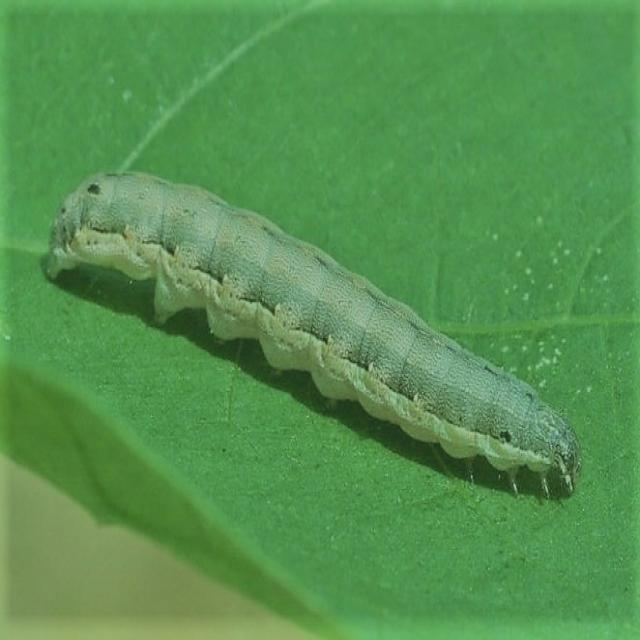armyworm: (41, 168, 582, 502)
